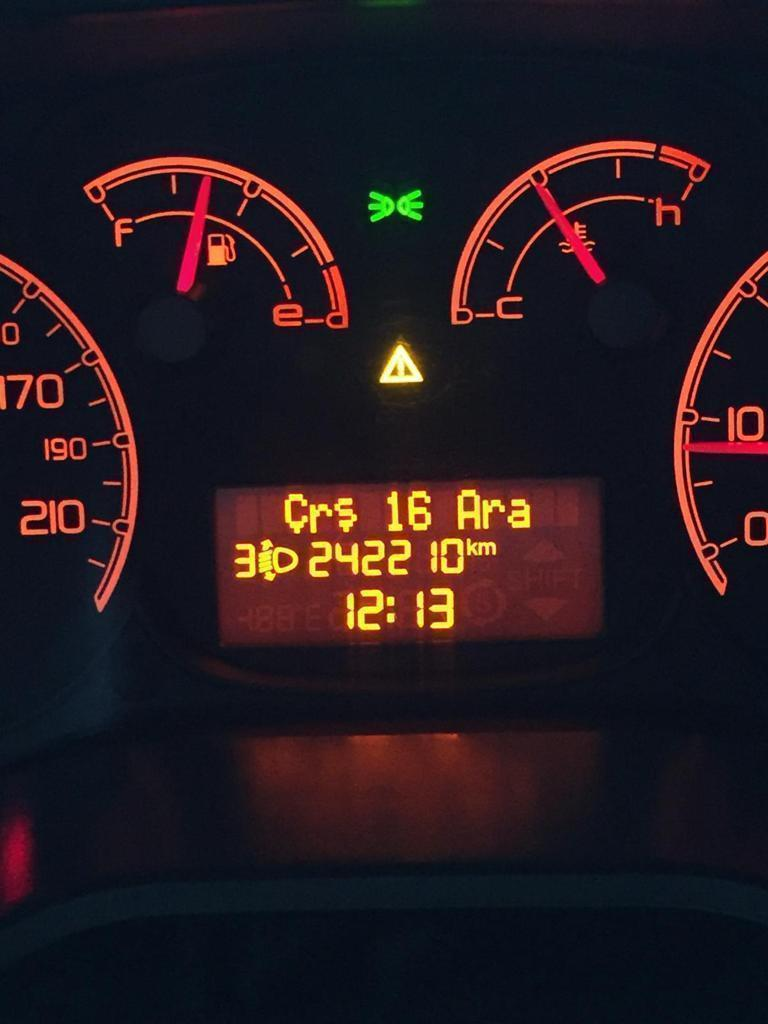0: (440, 536, 464, 574)
1: (385, 489, 404, 535), (344, 589, 355, 632), (428, 536, 439, 577), (415, 586, 425, 631)
2: (357, 587, 383, 632), (307, 538, 332, 578), (360, 538, 385, 577), (386, 538, 412, 575)
3: (428, 585, 456, 629), (233, 541, 257, 579)
4: (333, 539, 359, 576)
6: (406, 488, 431, 532)
X: (282, 491, 309, 536), (456, 487, 481, 533), (334, 493, 360, 533), (506, 495, 533, 529), (481, 498, 506, 530), (309, 501, 332, 534), (385, 593, 398, 626), (478, 538, 498, 558), (466, 536, 477, 557)
odometer: (205, 477, 609, 644)
